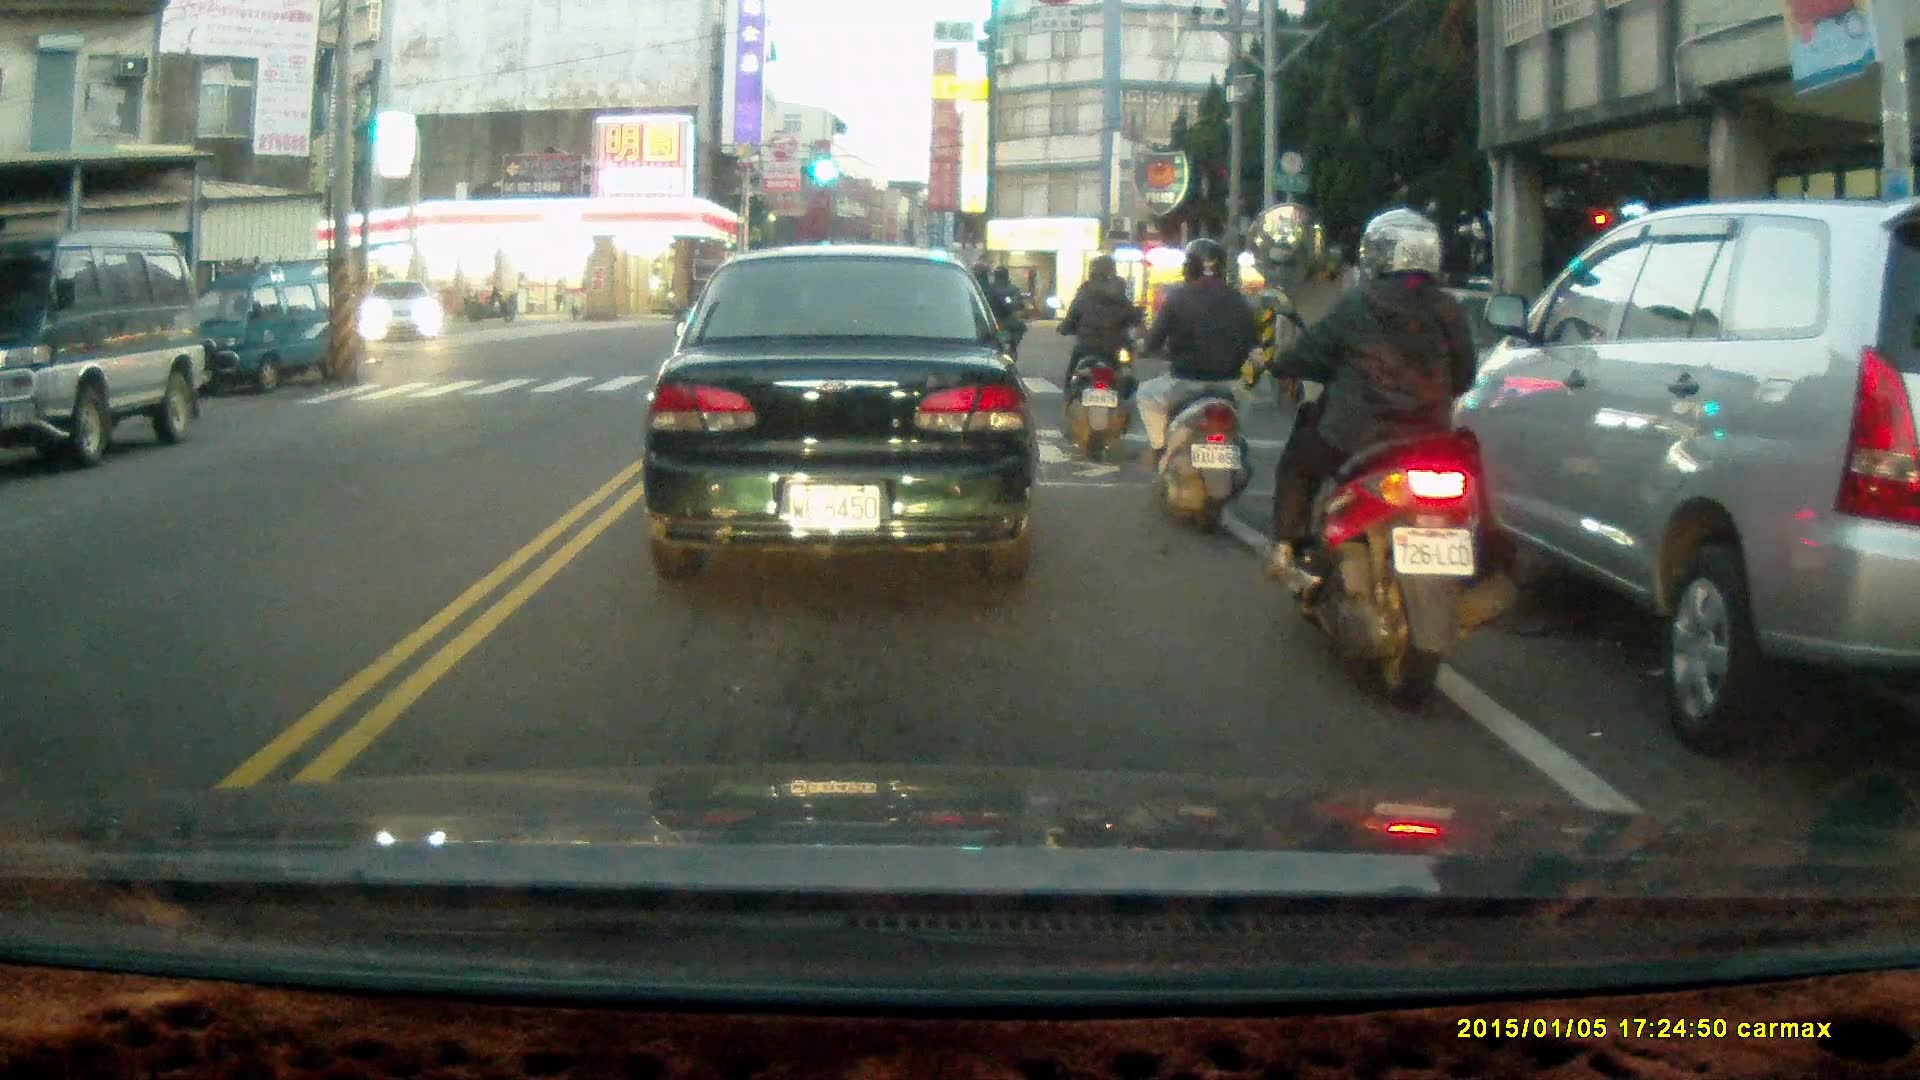rider: (1261, 207, 1510, 712), (1115, 240, 1260, 531), (1044, 259, 1137, 463), (958, 261, 1009, 379), (978, 264, 1024, 370)
vehicle: (1409, 195, 1920, 754), (641, 241, 1039, 589), (1, 234, 207, 460), (175, 262, 356, 400), (366, 279, 447, 345)
